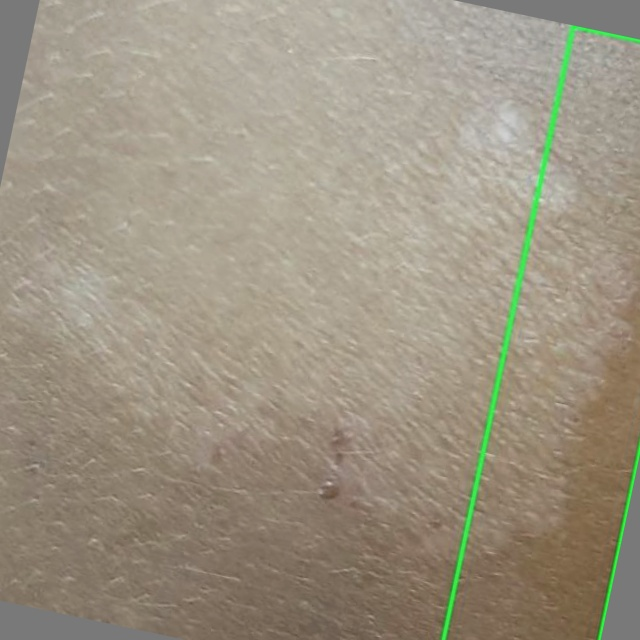Seborrheic Dermatitis: (443, 26, 639, 639)
